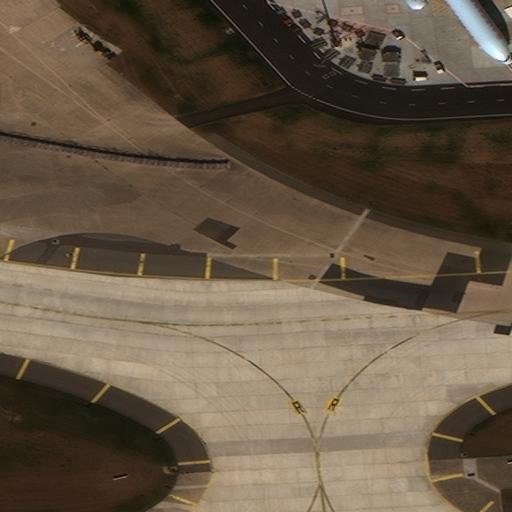Large Civil Transport: (332, 0, 511, 63)
